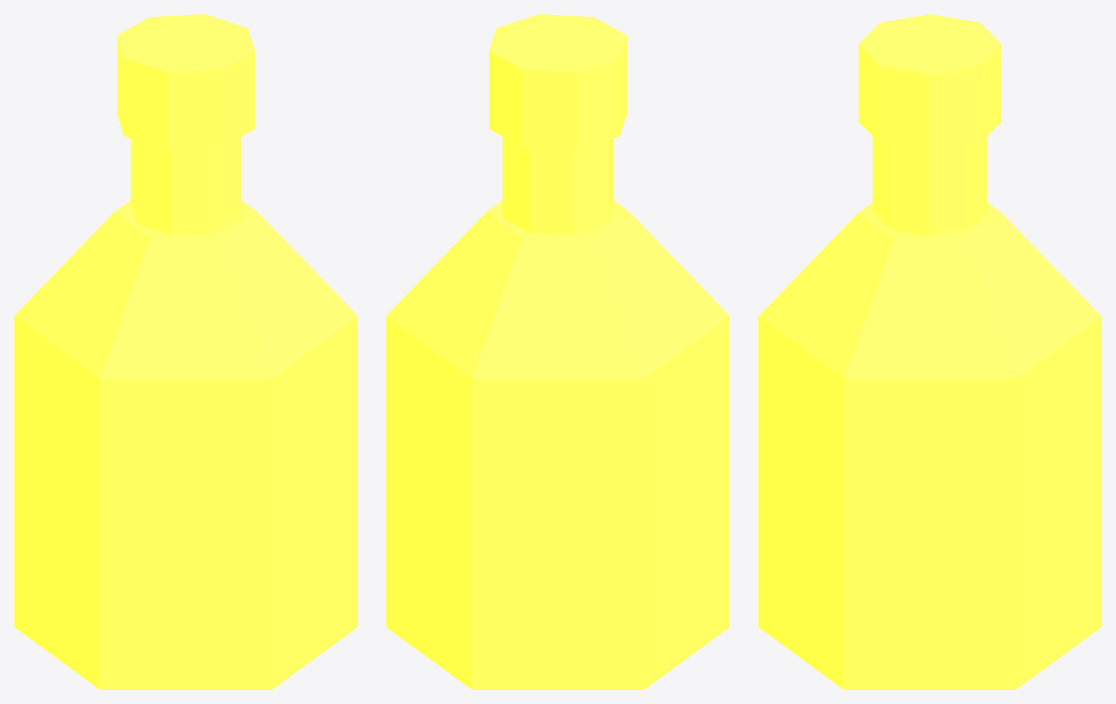
The model's file is SM_StaminaPotion_01.fbx.
3 views of the same model, side by side, from view 1: azimuth 30°, elevation 25°; view 2: azimuth 150°, elevation 25°; view 3: azimuth 270°, elevation 25° (orthographic).
Visible parts, largest first — view 1: SM_StaminaPotion_01; view 2: SM_StaminaPotion_01; view 3: SM_StaminaPotion_01.
Boxes of the visible parts, <box> form: SM_StaminaPotion_01: <box>14,14,357,689</box>; SM_StaminaPotion_01: <box>386,14,729,689</box>; SM_StaminaPotion_01: <box>758,14,1101,689</box>.
Size of the model in its own units: 0.2078 by 0.45 by 0.24.
